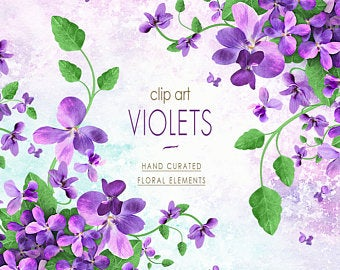violet: (18, 189, 179, 270), (205, 26, 282, 95), (34, 102, 110, 168), (267, 3, 340, 62), (246, 88, 290, 129), (282, 72, 324, 111), (133, 6, 178, 41), (166, 28, 200, 55), (298, 112, 336, 135)
